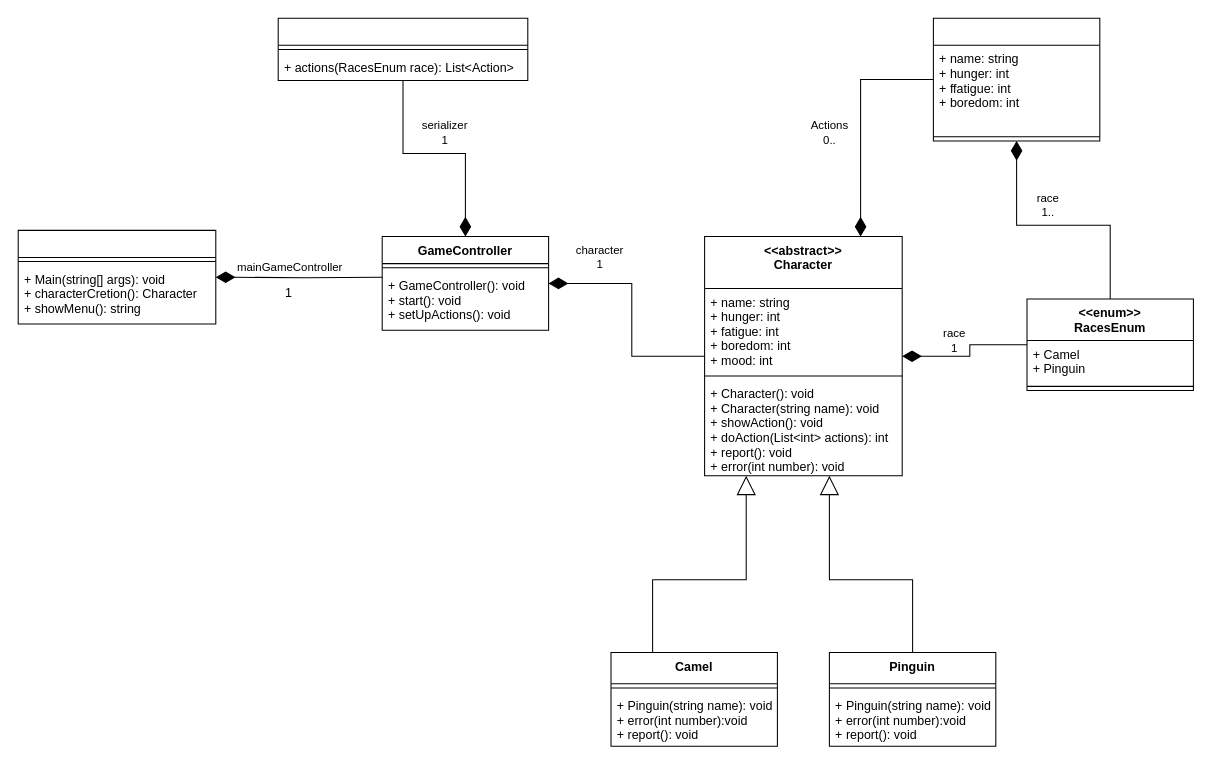
The diagram is 1212 pixels wide and 768 high, and some of its shapes have lost their labels. The shapes that lost their labels are listed below. From the top down, each one's box as (x1, y1, x2, y2) in pixels, then its label:
(277, 17, 528, 81): Serializer
(932, 17, 1100, 141): Action
(17, 229, 216, 324): MainMenu
